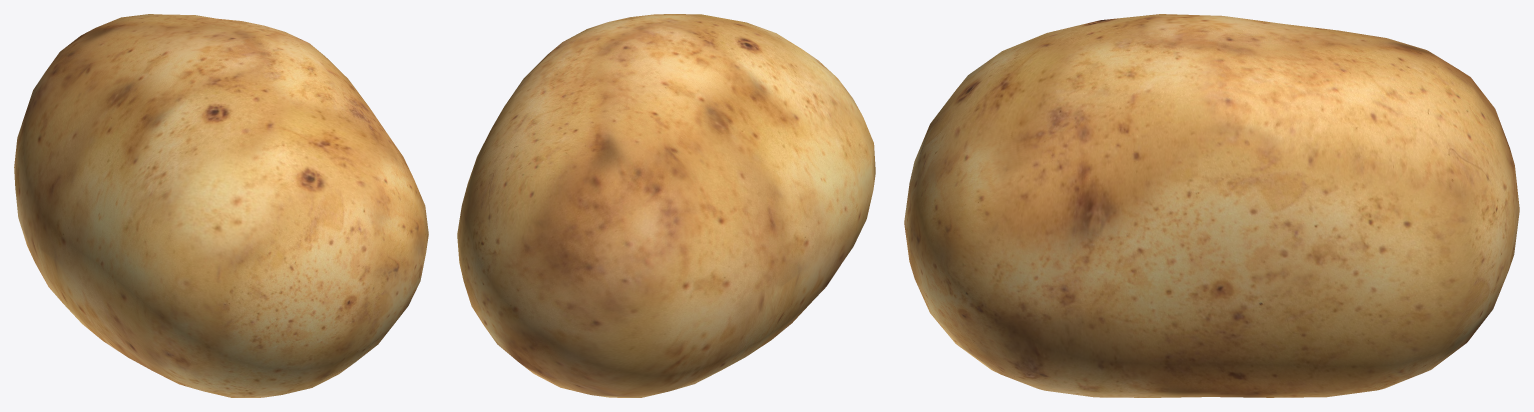
The model's file is raerfsdf.fbx.
The picture shows the model from 3 angles, left to right: view 1: azimuth 30°, elevation 25°; view 2: azimuth 150°, elevation 25°; view 3: azimuth 270°, elevation 25°; orthographic projection. The views are drawn at different scales.
Parts seen in each view (by area): view 1: Cube; view 2: Cube; view 3: Cube.
Boxes of the visible parts, x1,y1,x2,y2 form: Cube: [14, 14, 428, 397]; Cube: [457, 14, 875, 397]; Cube: [904, 14, 1519, 397].
Size of the model in its own units: 150 by 152 by 232.
